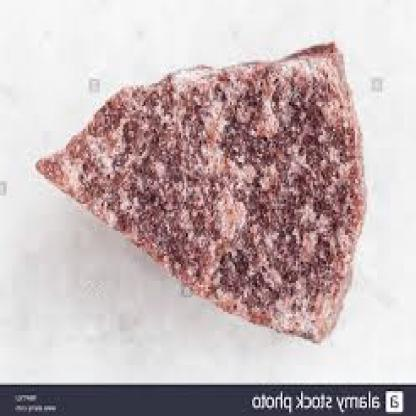Metamorphic_Quartize: (32, 19, 376, 335)
